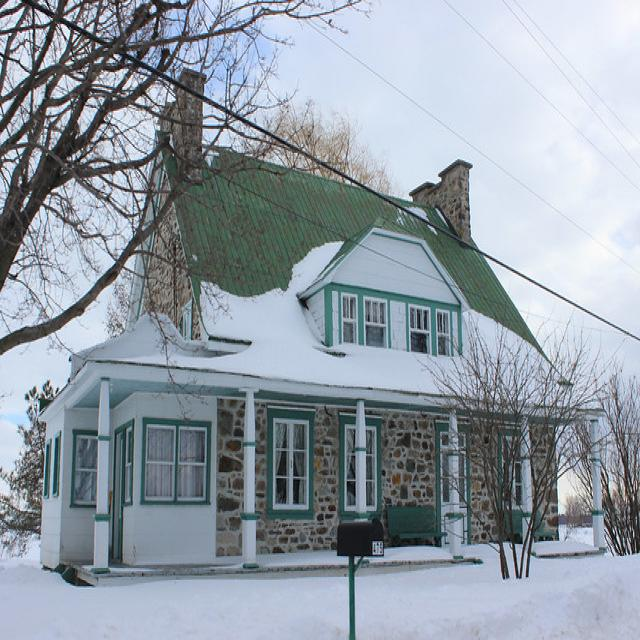Normal_building: (34, 67, 608, 591)
